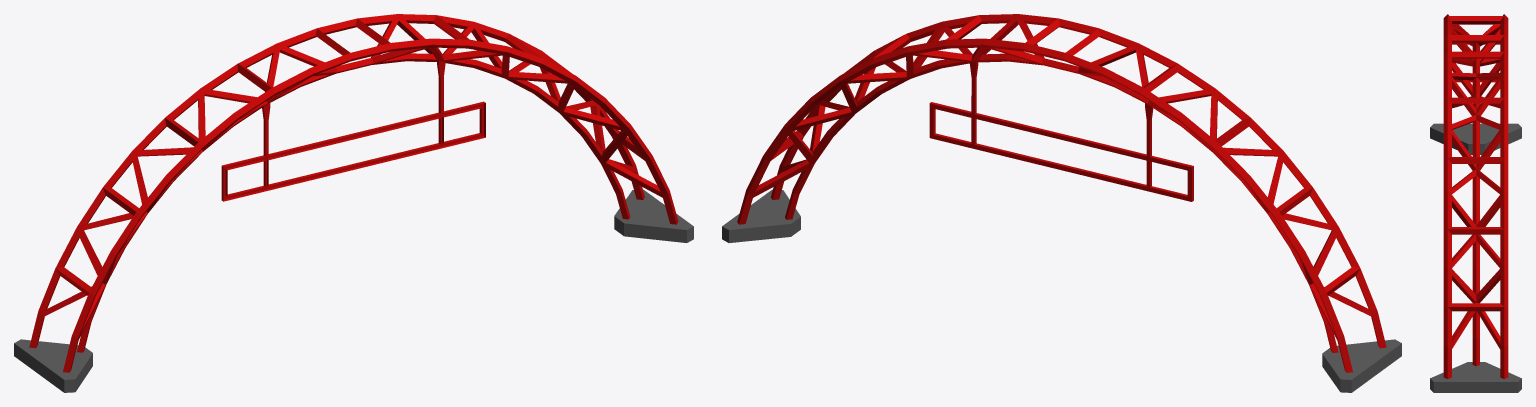
Rendered from Arch_for_banner_free.fbx.
3 views of the same model, side by side, from view 1: azimuth 30°, elevation 25°; view 2: azimuth 150°, elevation 25°; view 3: azimuth 270°, elevation 25° (orthographic). The views are drawn at different scales.
Visible parts, largest first — view 1: Arch_for_banner_free; view 2: Arch_for_banner_free; view 3: Arch_for_banner_free.
Part boxes in pixels (x1=…): Arch_for_banner_free: x1=14, y1=14, x2=693, y2=392; Arch_for_banner_free: x1=722, y1=14, x2=1401, y2=392; Arch_for_banner_free: x1=1430, y1=14, x2=1521, y2=392.
Bounding box in the file's own units: 1516 × 603 × 228.
